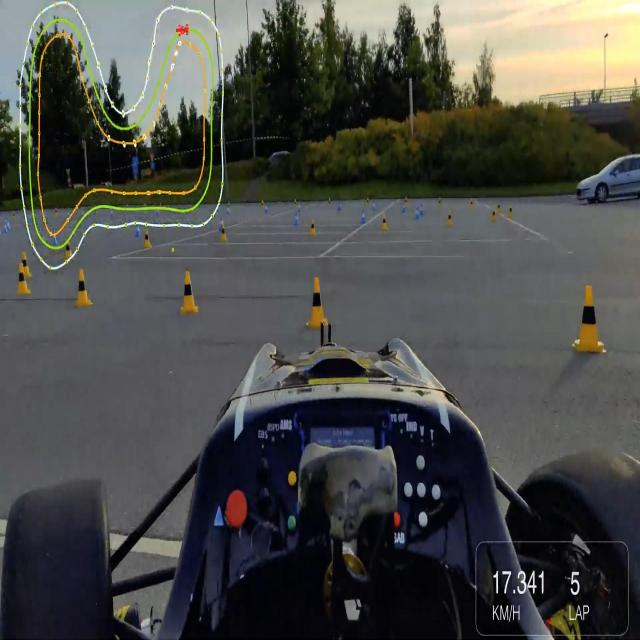blue_cone: (50, 227, 58, 248), (133, 219, 140, 240), (293, 209, 300, 229), (359, 206, 366, 226), (412, 206, 419, 226)
yellow_cone: (573, 273, 606, 357), (304, 272, 331, 327), (178, 266, 200, 317), (75, 267, 94, 309), (15, 263, 30, 297), (19, 248, 30, 278), (64, 235, 72, 265), (142, 224, 151, 250), (218, 219, 227, 243), (309, 215, 317, 237), (380, 210, 388, 230), (445, 209, 453, 229), (506, 203, 514, 223), (488, 206, 496, 224), (496, 200, 502, 220)
